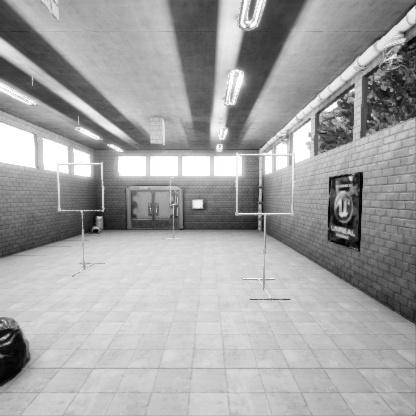gate: (238, 203, 300, 265), (61, 207, 110, 254), (170, 211, 175, 240)
